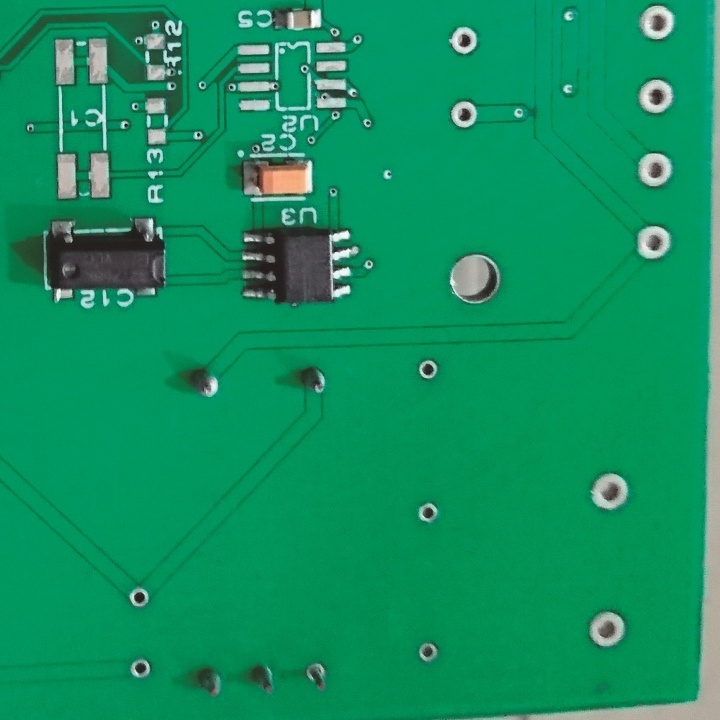F: (586, 467, 630, 517), (583, 609, 630, 651), (636, 74, 678, 118), (634, 150, 676, 189), (637, 4, 676, 43), (634, 224, 673, 263), (446, 23, 480, 63), (449, 101, 481, 135), (126, 584, 154, 615), (306, 663, 333, 695), (127, 655, 155, 683), (416, 498, 442, 527), (416, 640, 439, 667), (417, 359, 441, 382)
